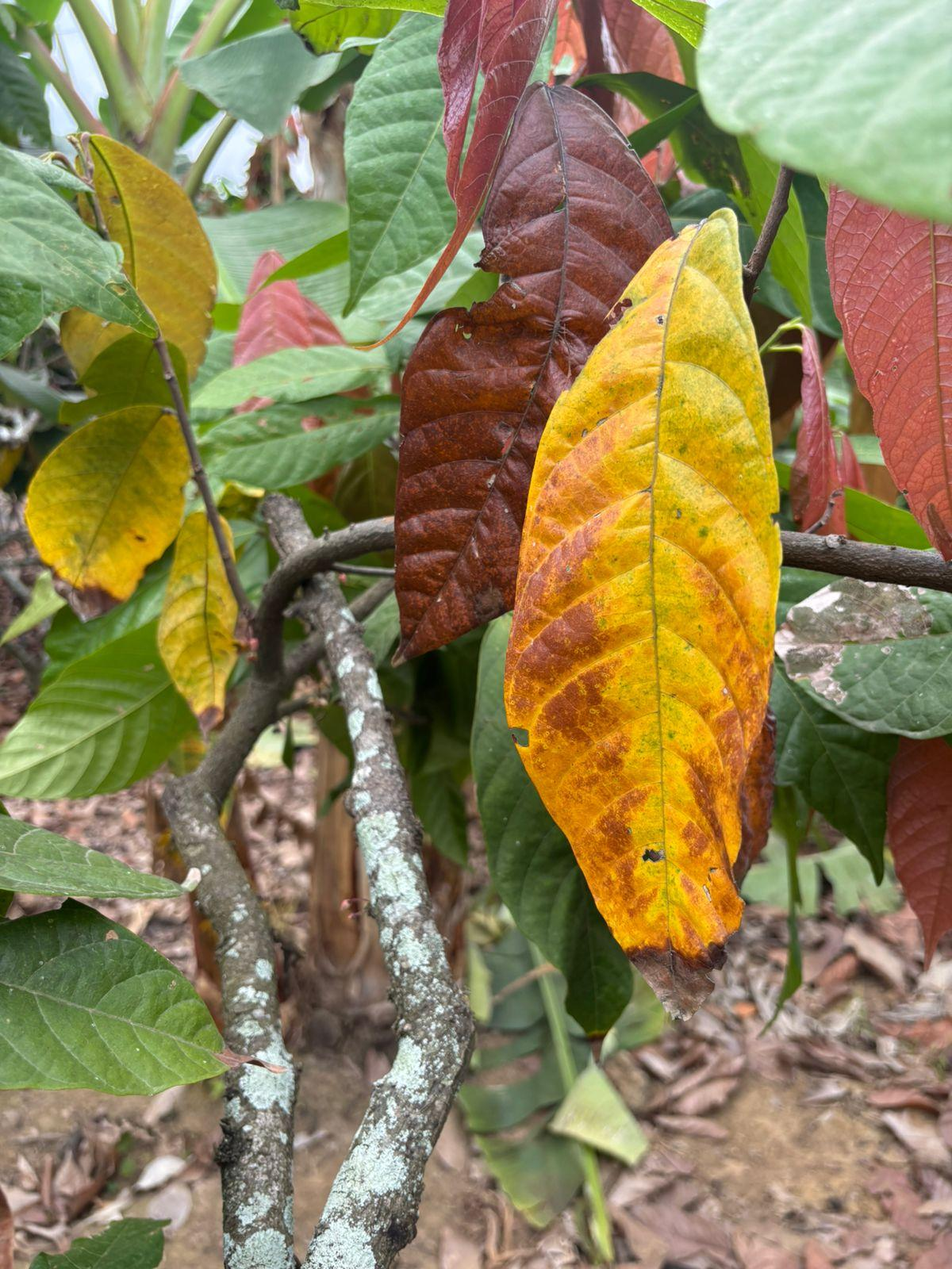deficienciia_fosforo: (505, 217, 779, 1018)
